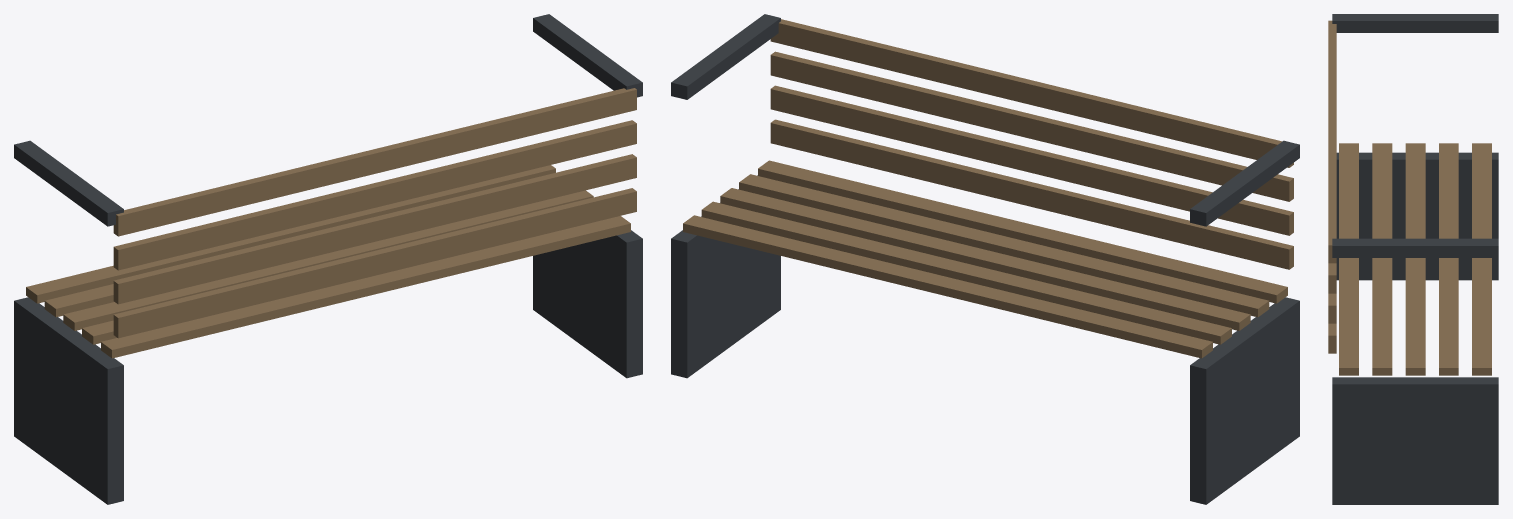
The model's file is f37-park-bench.glb.
The picture shows the model from 3 angles, left to right: view 1: azimuth 30°, elevation 25°; view 2: azimuth 150°, elevation 25°; view 3: azimuth 270°, elevation 25°; orthographic projection. The views are drawn at different scales.
Visible parts, largest first — view 1: part1, part0; view 2: part1, part0; view 3: part0, part1.
Boxes of the visible parts, <box> form: part1: <box>26,88,636,358</box>; part0: <box>14,14,642,504</box>; part1: <box>683,19,1293,358</box>; part0: <box>671,14,1299,504</box>; part0: <box>1332,14,1498,504</box>; part1: <box>1328,20,1491,375</box>.
Bounding box in the file's own units: 1650 × 860 × 513.
